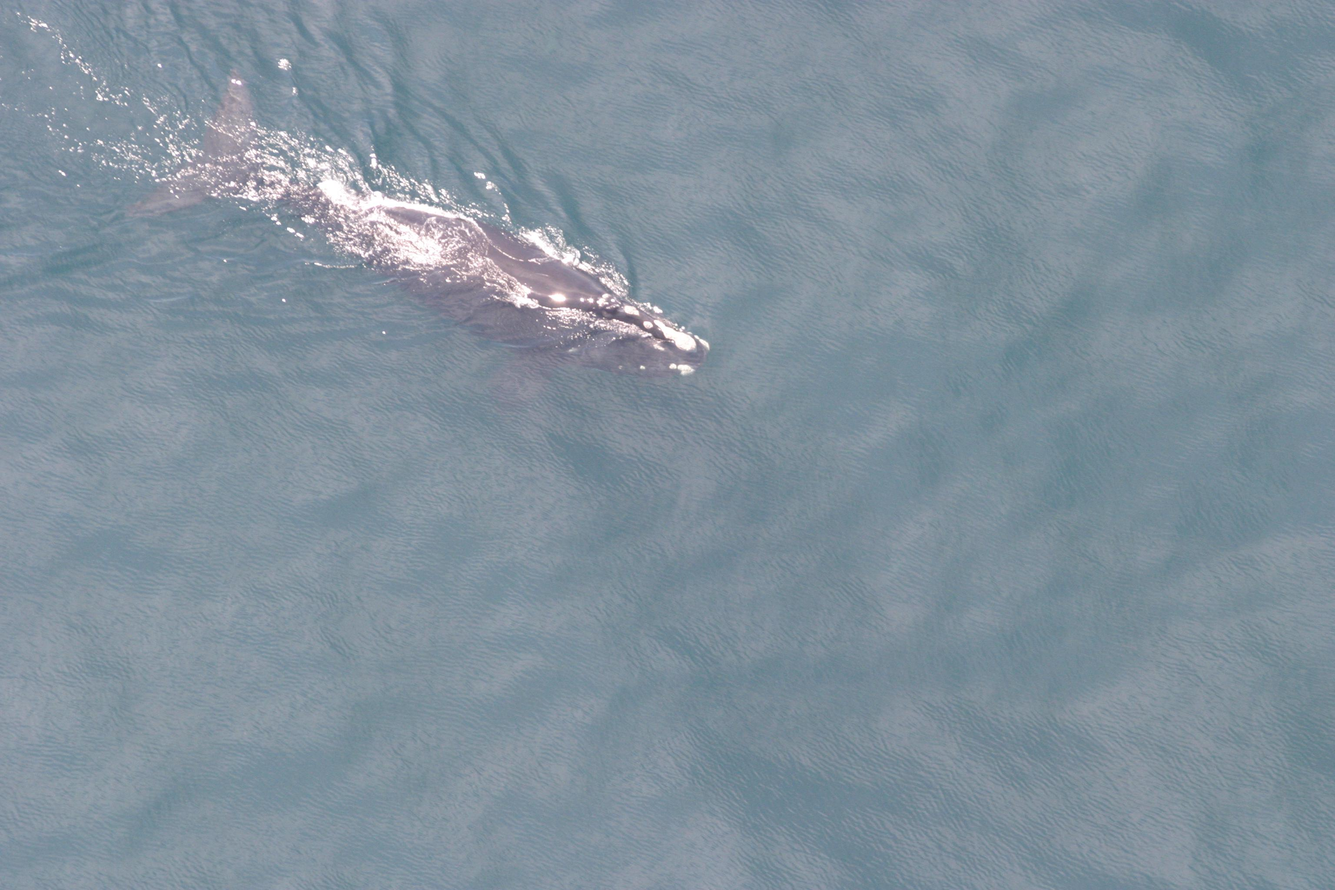whale: (115, 63, 722, 379)
